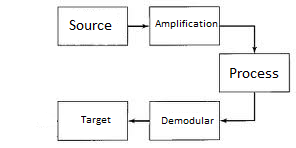arrow: (218, 23, 258, 54), (219, 91, 256, 124), (126, 117, 150, 125), (126, 22, 149, 29)
process: (55, 4, 129, 48), (147, 4, 221, 47), (217, 51, 291, 94), (55, 99, 129, 142), (147, 99, 220, 142)
text: (154, 18, 218, 30), (228, 66, 279, 80), (68, 18, 112, 32), (160, 115, 215, 125), (78, 113, 112, 126)
